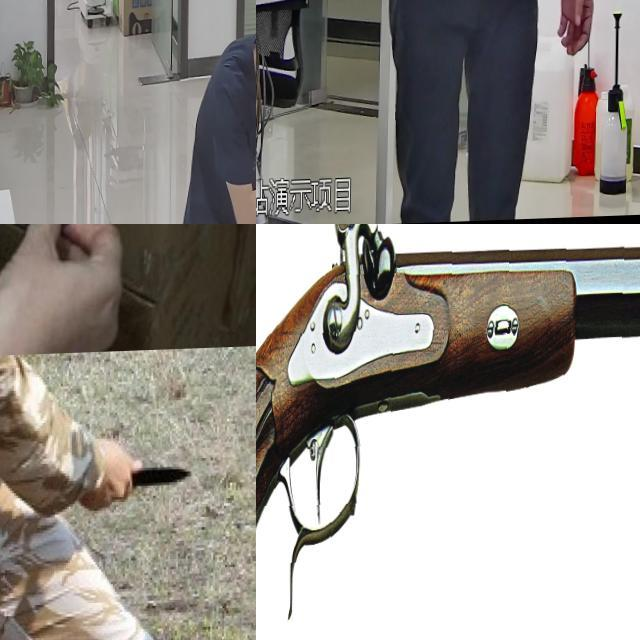-: (0, 444, 84, 640), (35, 224, 171, 302), (96, 449, 194, 508), (0, 224, 71, 271)
gun-knife-thesis - v11 Yolov5 augmented: (256, 224, 640, 640), (370, 0, 454, 107)
